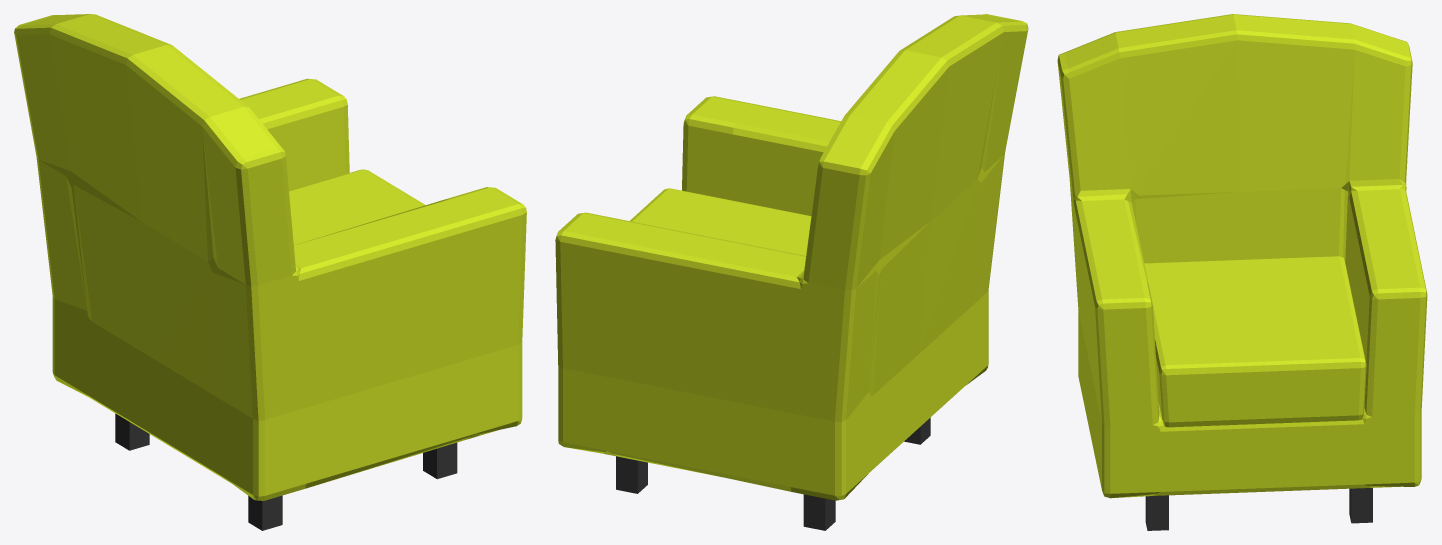
The model's file is eadd44c1-5d3b-4157-a16d-bed931cfa679.glb.
3 renders of one model, left to right at view 1: azimuth 30°, elevation 25°; view 2: azimuth 150°, elevation 25°; view 3: azimuth 270°, elevation 25°, orthographic. The views are drawn at different scales.
Visible parts, largest first — view 1: Box001, Box002, Box006, Box005, Box004; view 2: Box001, Box002, Box003, Box004; view 3: Box001, Box002, Box005, Box003.
Part boxes in pixels (x1,y1,x2,y2): Box001: (14,14,526,500); Box002: (289,169,425,245); Box006: (248,495,282,530); Box005: (423,442,457,479); Box004: (115,413,149,450); Box001: (555,14,1028,500); Box002: (630,188,811,255); Box003: (616,456,647,493); Box004: (803,494,835,530); Box001: (1057,14,1427,498); Box002: (1144,256,1366,427); Box005: (1145,495,1168,530); Box003: (1349,488,1372,523).
Size of the model in its own units: 111014 by 137411 by 115924.
